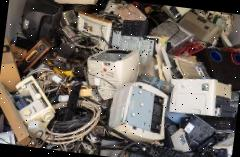electronic: (92, 67, 174, 145), (156, 69, 240, 136), (0, 70, 59, 148), (74, 39, 148, 101), (4, 28, 64, 94), (11, 0, 71, 63), (67, 3, 117, 66), (146, 11, 196, 71), (172, 9, 224, 60), (103, 21, 162, 65)
